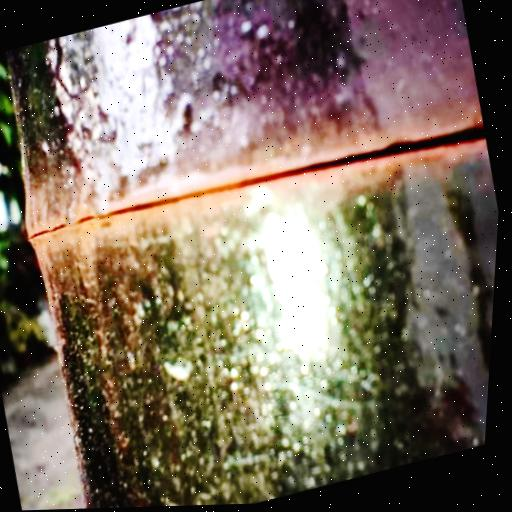crack: (17, 80, 493, 277)
